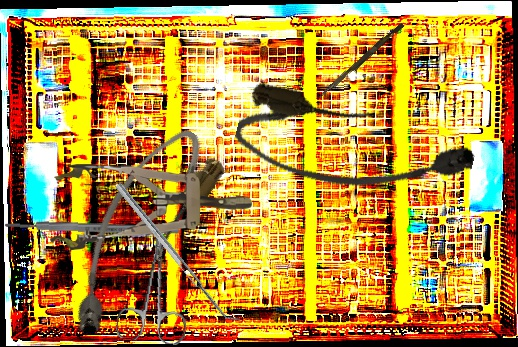Cannula: (40, 117, 233, 347), (229, 78, 480, 218)
Iris Scissors: (115, 219, 198, 346)
Pusher: (318, 20, 405, 102)
Scalpel Handle: (3, 219, 181, 237)
Spatula Surgical: (114, 177, 242, 330)
Speculum: (48, 161, 253, 251)
